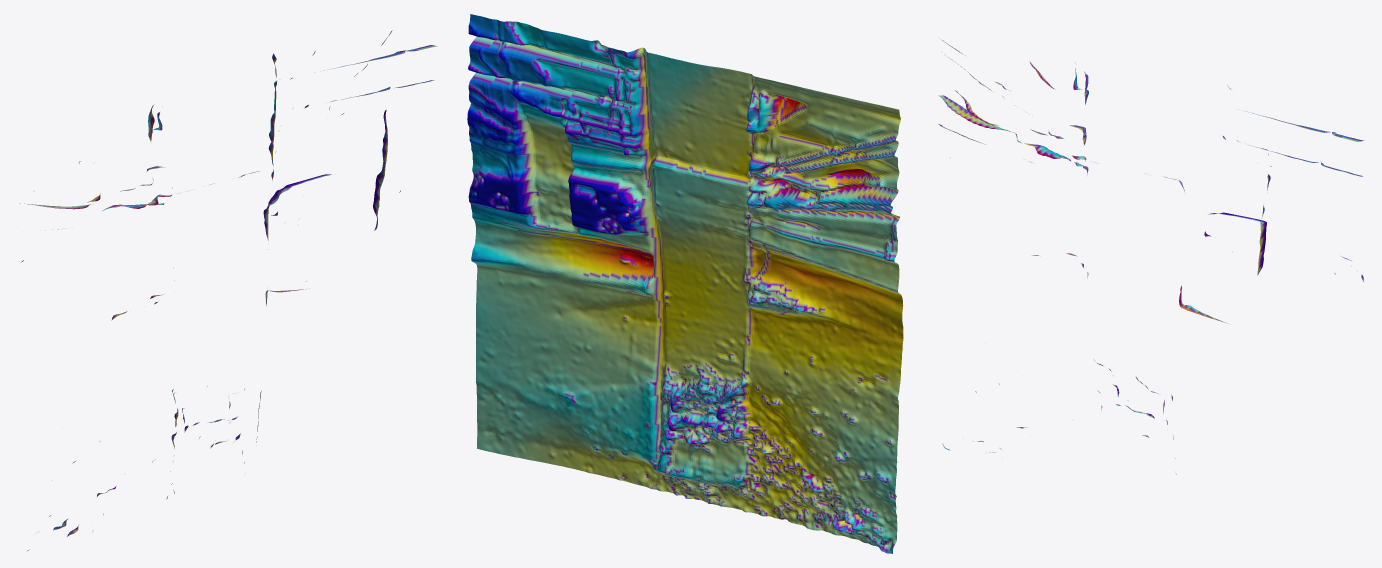
The picture shows the model from 3 angles, left to right: view 1: azimuth 30°, elevation 25°; view 2: azimuth 150°, elevation 25°; view 3: azimuth 330°, elevation 25°; orthographic projection.
Parts seen in each view (by area): view 1: world; view 2: world; view 3: world.
Part boxes in pixels (<box>): world: <box>19,30,437,551</box>; world: <box>467,14,903,553</box>; world: <box>938,38,1364,474</box>.
Size of the model in its own units: 299 by 299 by 30.
